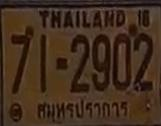0: (112, 32, 130, 90)
1: (40, 35, 47, 93)
2: (132, 33, 152, 93), (70, 34, 89, 92)
7: (11, 34, 31, 93)
9: (91, 33, 110, 90)
SPK: (35, 97, 130, 123)
